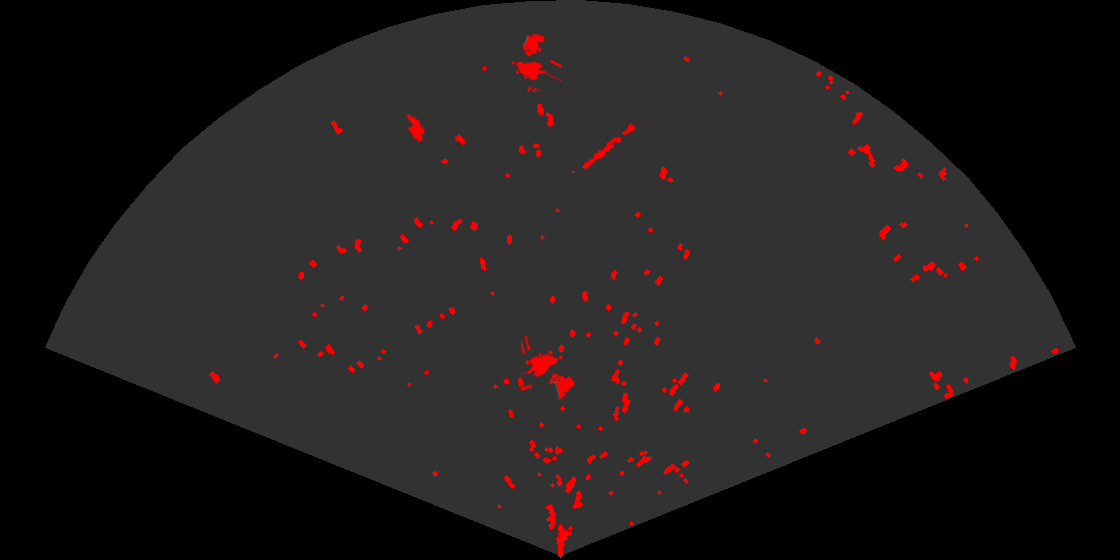AUV: (405, 112, 427, 144)
cage: (521, 336, 577, 401), (509, 32, 562, 92)
chain: (570, 117, 645, 175)
